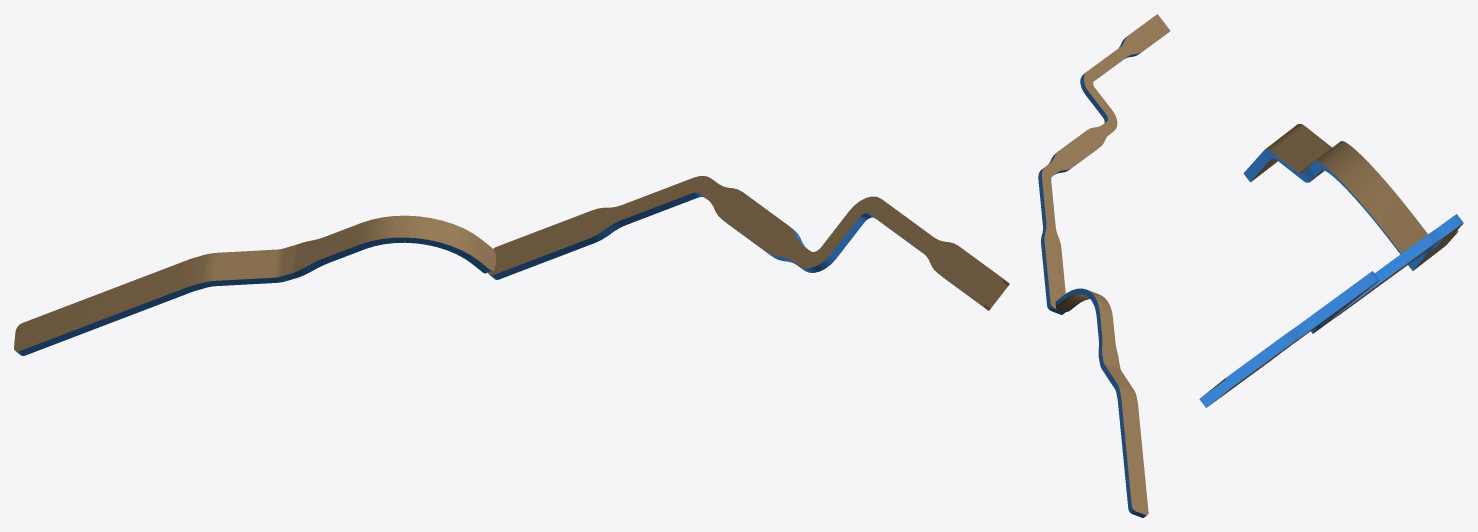
File: ramp_16.FBX
3 renders of one model, left to right at view 1: azimuth 30°, elevation 25°; view 2: azimuth 150°, elevation 25°; view 3: azimuth 330°, elevation 25°, orthographic. The views are drawn at different scales.
Visible parts, largest first — view 1: ramp_16; view 2: ramp_16; view 3: ramp_16.
Boxes of the visible parts, x1,y1,x2,y2 form: ramp_16: [14, 176, 1009, 355]; ramp_16: [1038, 14, 1170, 517]; ramp_16: [1199, 124, 1463, 407].
Bounding box in the file's own units: 7436 × 4713 × 13423.
